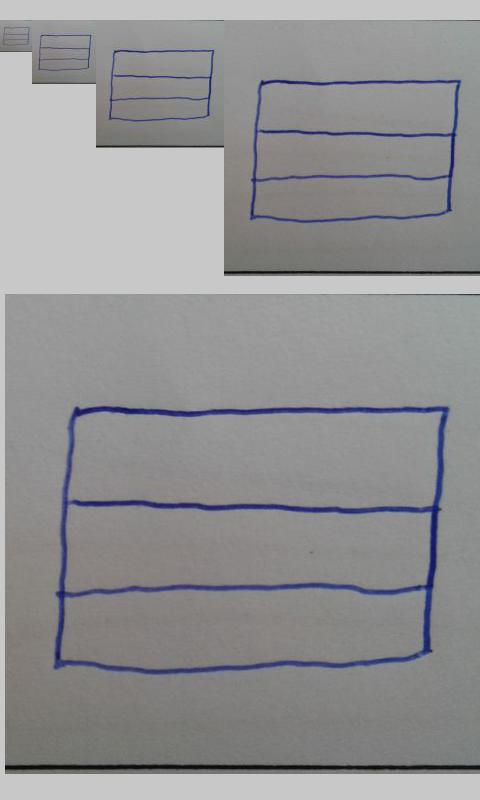list_view: (50, 400, 450, 679), (248, 78, 463, 225), (107, 48, 216, 123), (38, 33, 92, 72), (2, 26, 31, 46)
